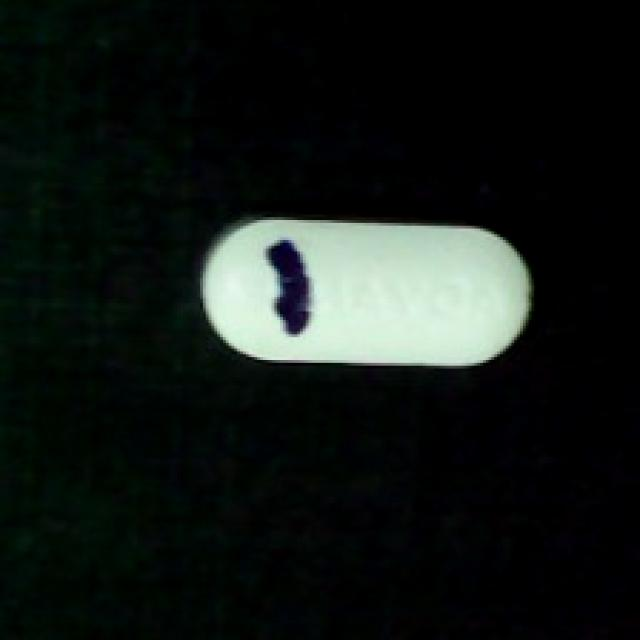defected: (197, 209, 537, 374)
